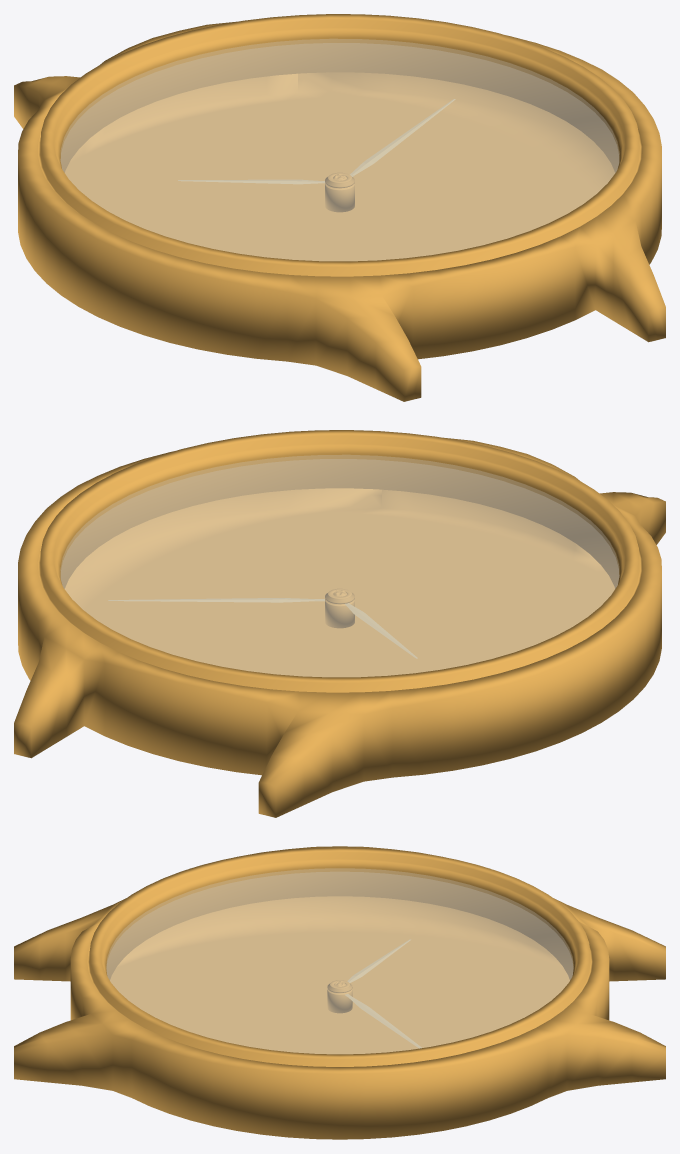
Rendered from watch_body.glb.
3 renders of one model, top to bottom at view 1: azimuth 30°, elevation 25°; view 2: azimuth 150°, elevation 25°; view 3: azimuth 270°, elevation 25°, orthographic. The views are drawn at different scales.
Visible parts, largest first — view 1: watch_body, watch_body_glass, watch_body.001; view 2: watch_body, watch_body_glass, watch_body.001; view 3: watch_body, watch_body_glass, watch_body.001.
Part boxes in pixels (left/top/right/bottom): watch_body: left=14, top=14, right=665, bottom=401; watch_body_glass: left=60, top=39, right=619, bottom=260; watch_body.001: left=350, top=99, right=455, bottom=176; watch_body: left=14, top=430, right=665, bottom=817; watch_body_glass: left=60, top=455, right=619, bottom=676; watch_body.001: left=108, top=598, right=324, bottom=602; watch_body: left=14, top=846, right=665, bottom=1139; watch_body_glass: left=106, top=868, right=573, bottom=1053; watch_body.001: left=345, top=994, right=421, bottom=1048.
Size of the model in its own units: 1.62 by 0.2398 by 1.96.
